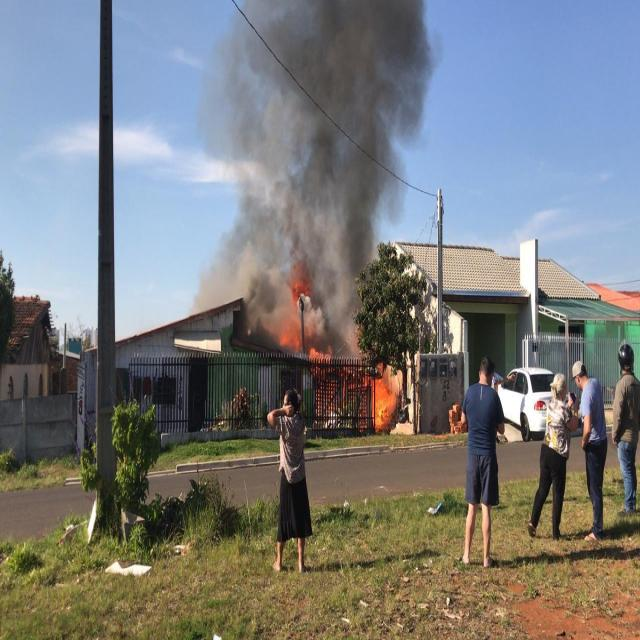Fire: (373, 377, 391, 427), (309, 344, 333, 359)
